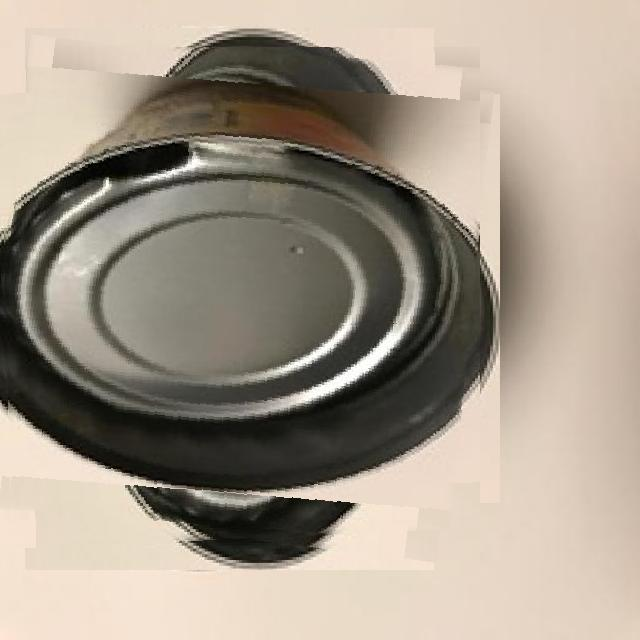recyclable: (0, 47, 480, 549)
